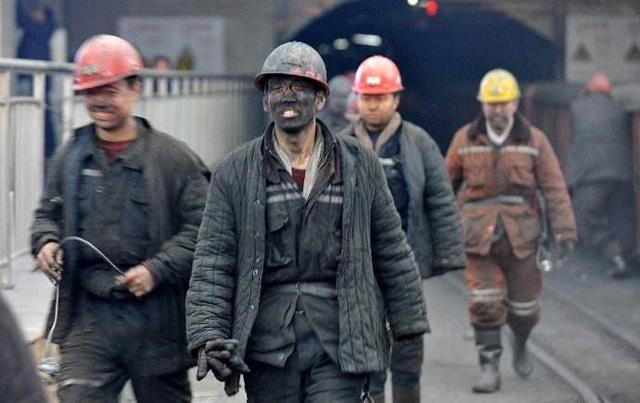helmet: (63, 36, 157, 133), (252, 37, 331, 138), (349, 51, 407, 131)
